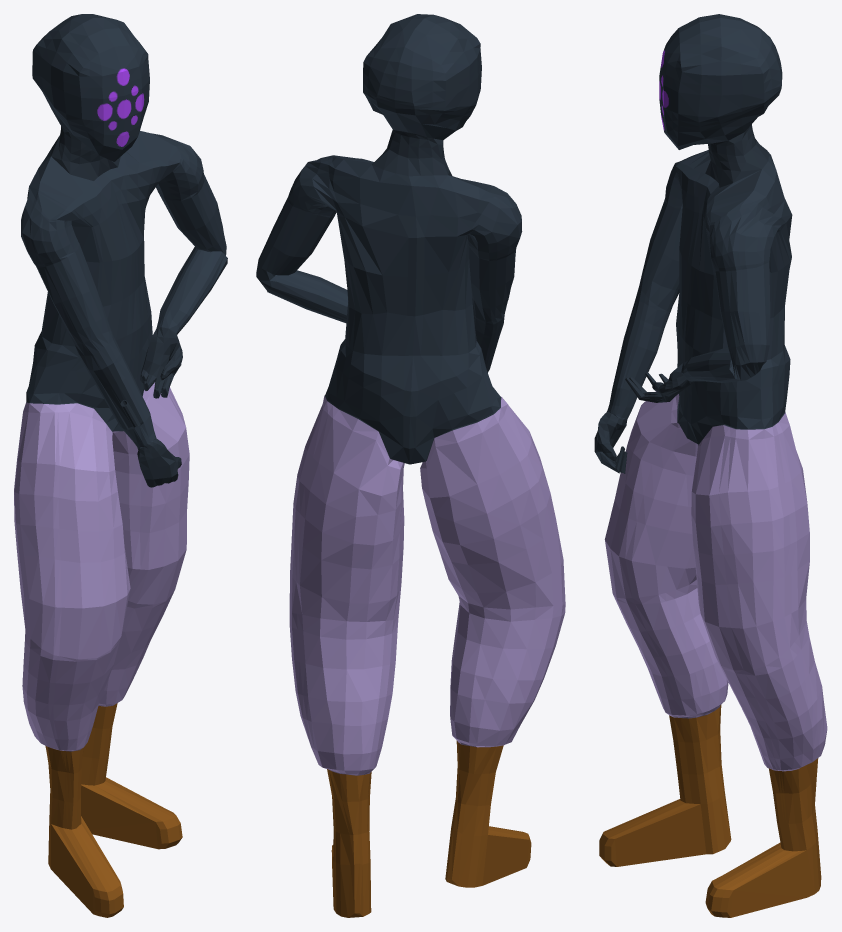
File: Oracle_WL_000026.obj
3 views of the same model, side by side, from view 1: azimuth 30°, elevation 25°; view 2: azimuth 150°, elevation 25°; view 3: azimuth 270°, elevation 25° (orthographic). The views are drawn at different scales.
Parts seen in each view (by area): view 1: Cube; view 2: Cube; view 3: Cube.
Boxes of the visible parts, x1,y1,x2,y2 form: Cube: (14,14,227,917); Cube: (256,14,565,917); Cube: (594,14,827,917).
Size of the model in its own units: 1.18 by 3.92 by 0.9604.
